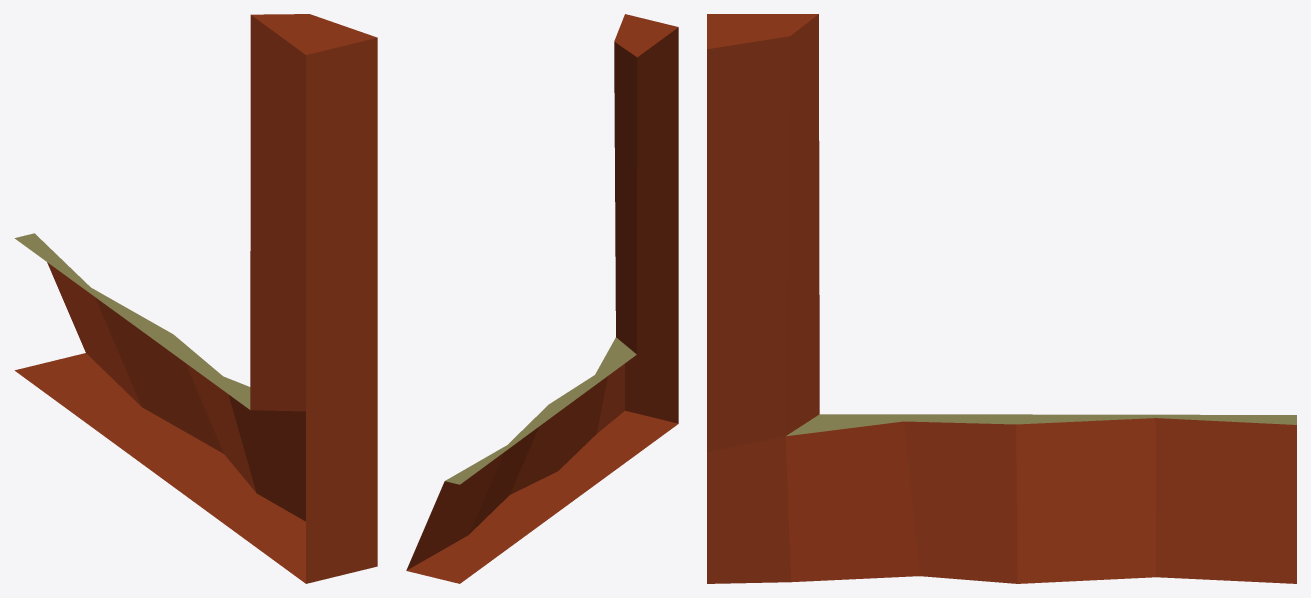
File: S_wall_lateral_flipped.fbx
The picture shows the model from 3 angles, left to right: view 1: azimuth 30°, elevation 25°; view 2: azimuth 150°, elevation 25°; view 3: azimuth 270°, elevation 25°; orthographic projection. The views are drawn at different scales.
Visible parts, largest first — view 1: S_wall_flipped; view 2: S_wall_flipped; view 3: S_wall_flipped.
Boxes of the visible parts, x1=… form: S_wall_flipped: x1=14, y1=14, x2=377, y2=583; S_wall_flipped: x1=406, y1=14, x2=678, y2=583; S_wall_flipped: x1=707, y1=14, x2=1296, y2=583.
Size of the model in its own units: 28.34 by 200 by 200.
